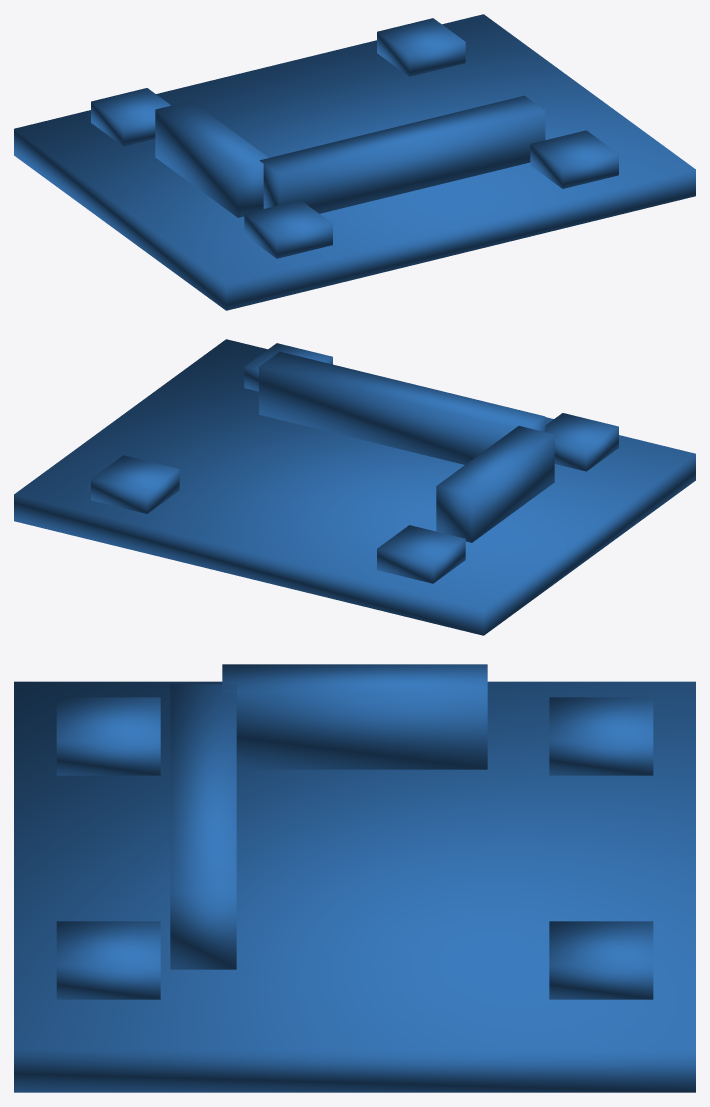
The model's file is fixture_base.dae.
3 views of the same model, one above another, from view 1: azimuth 30°, elevation 25°; view 2: azimuth 150°, elevation 25°; view 3: azimuth 270°, elevation 25° (orthographic). The views are drawn at different scales.
Visible parts, largest first — view 1: node0; view 2: node0; view 3: node0.
Part boxes in pixels (<box>): node0: <box>14,14,695,310</box>; node0: <box>14,339,695,635</box>; node0: <box>14,664,695,1092</box>.
Size of the model in its own units: 0.46 by 0.36 by 0.07.
